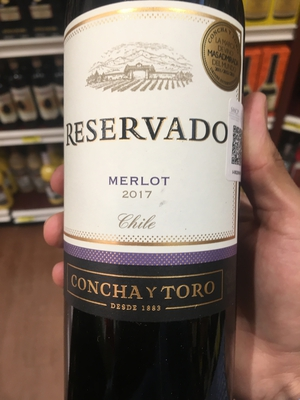reservado merlot: (50, 6, 257, 396)
